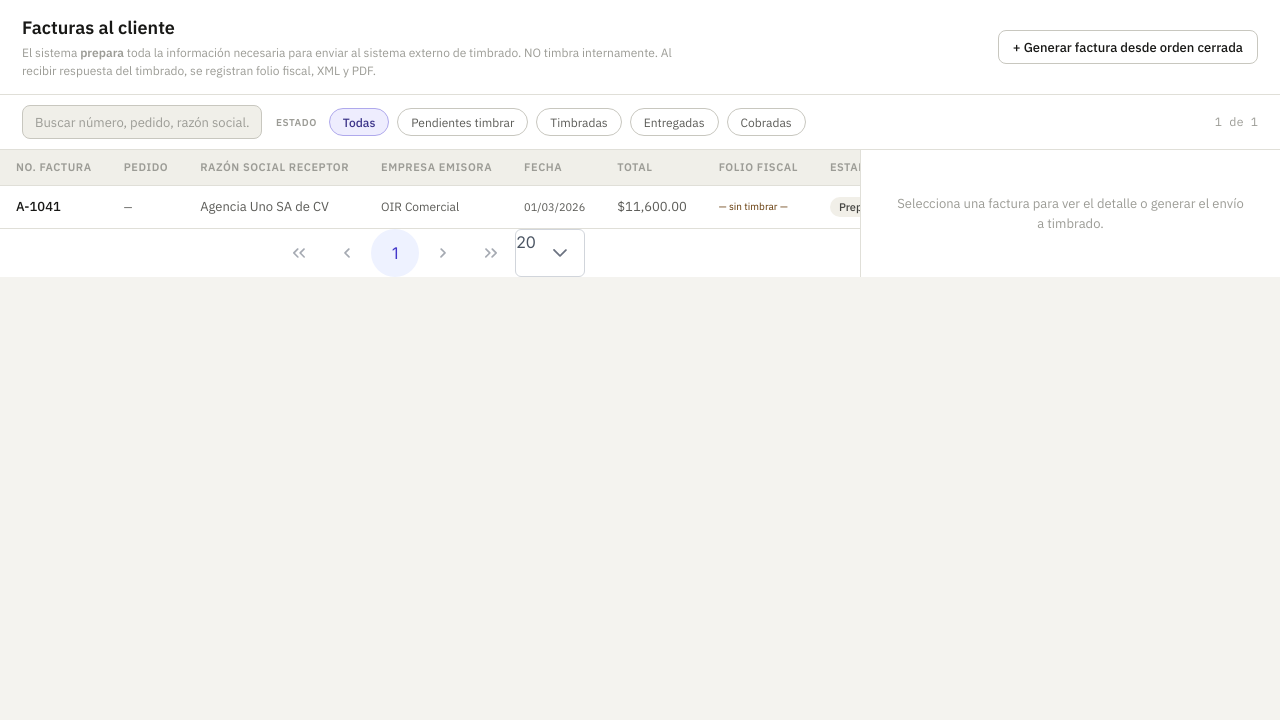
FacturasClientePage › el detalle muestra las "Facturas relacionadas" elegidas al crear la factura (ADR-062)
Click the text "A-1041" at x=54, y=207, box [0, 185, 108, 228]
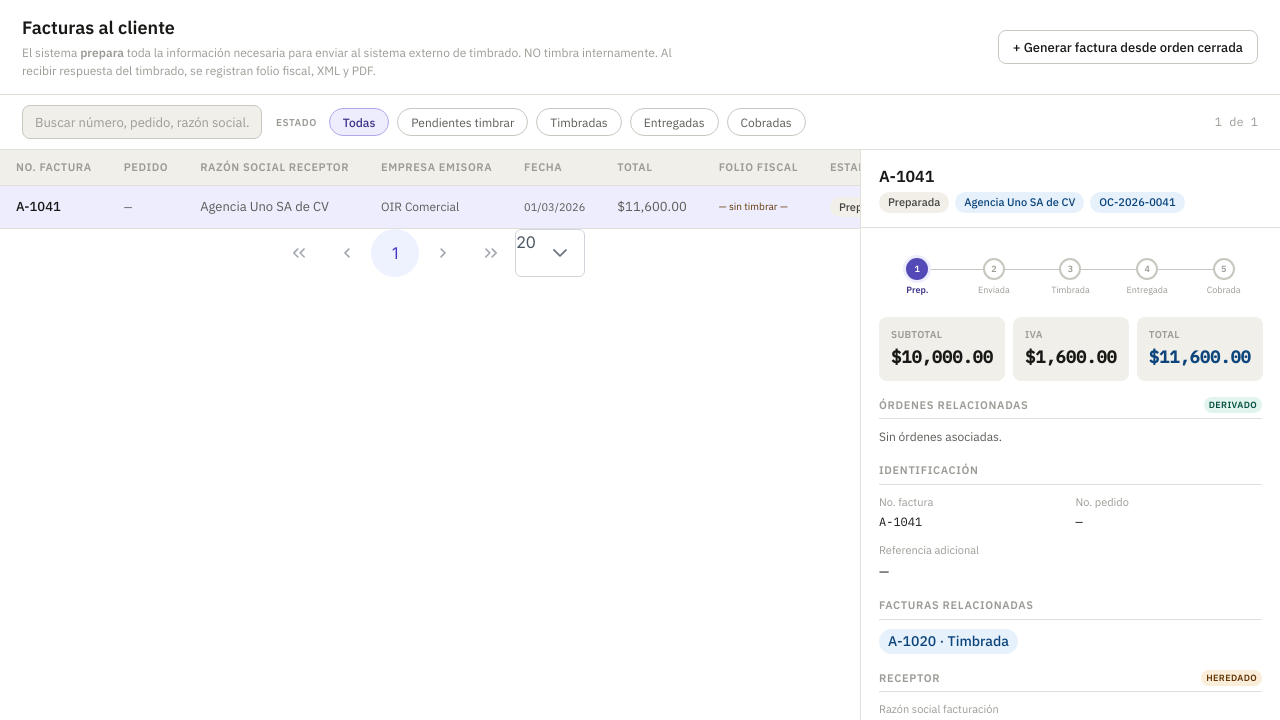
Now the text "Facturas relacionadas" is shown, box [879, 597, 1262, 620]
Now the button "A-1020 · Timbrada" is shown
Es clicable: lleva al detalle de la factura relacionada.
Click the button "A-1020 · Timbrada" at x=948, y=641, box [879, 629, 1018, 654]
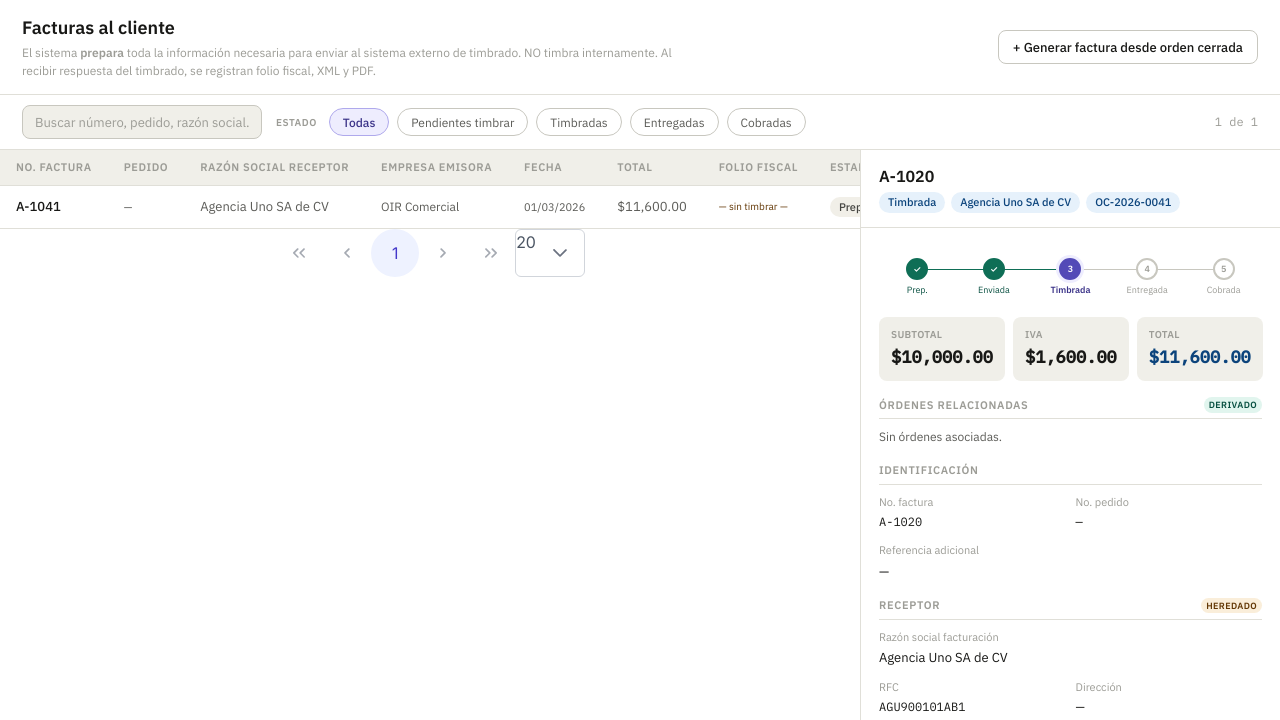
Now the 1st text "A-1020" is shown, box [879, 166, 934, 186]
